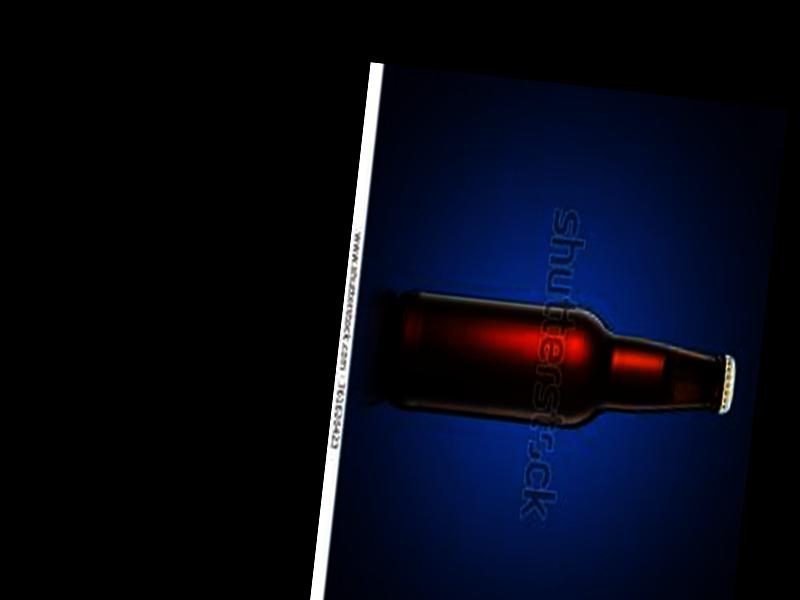Beer: (385, 287, 742, 447)
